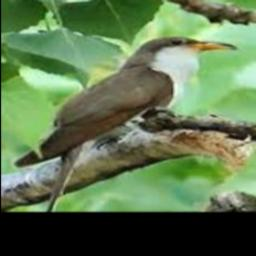Cuckoo: (15, 36, 239, 211)
